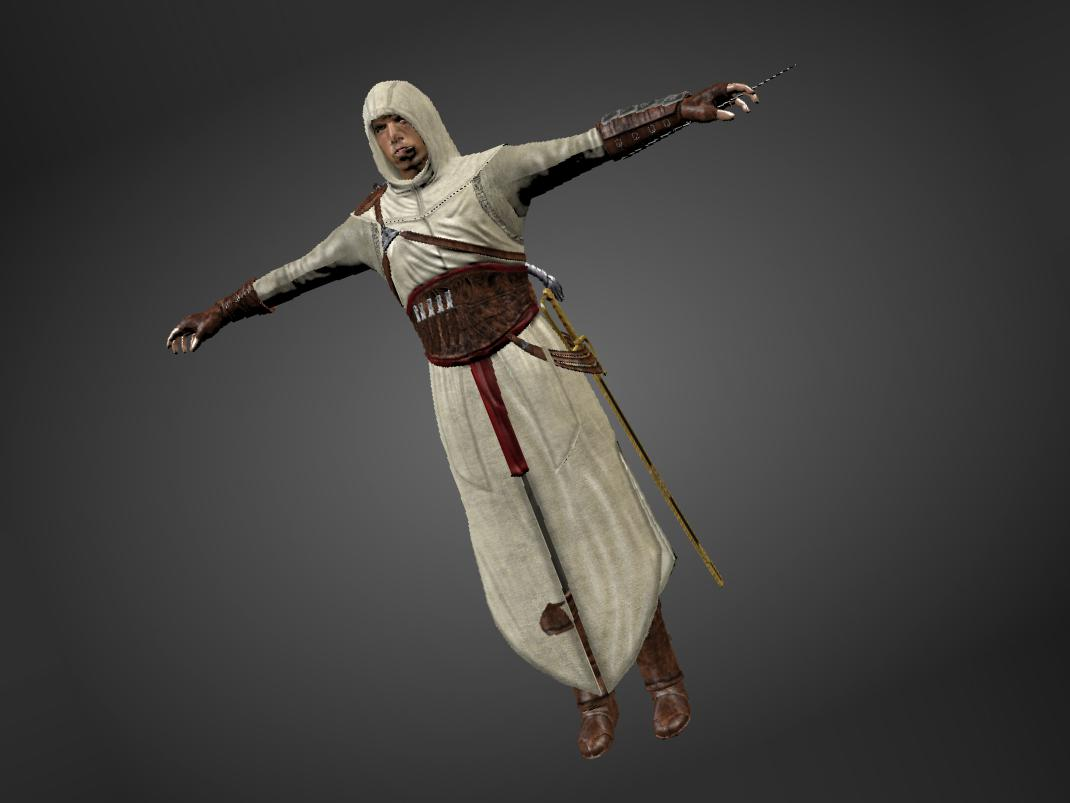clip: (532, 598, 579, 641)
